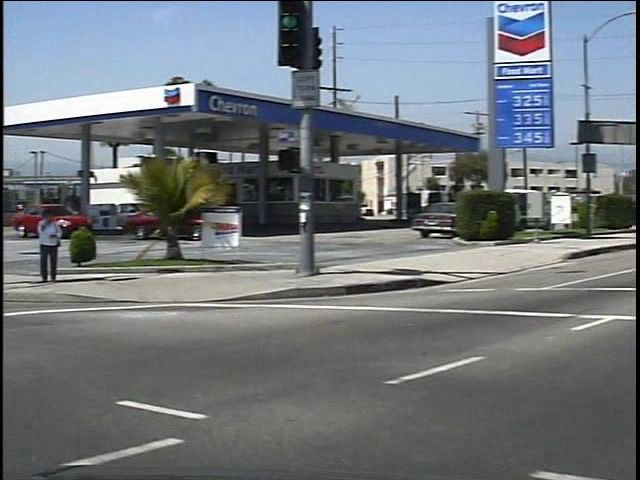person: (27, 203, 58, 288)
